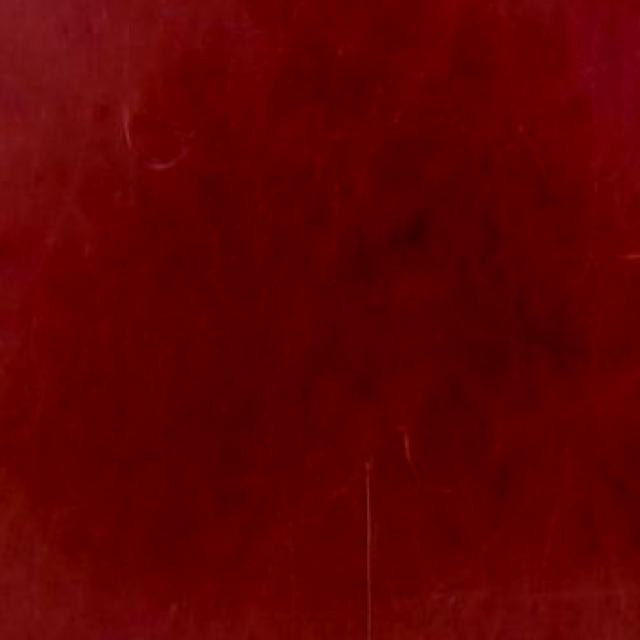NV: (7, 0, 640, 640)
